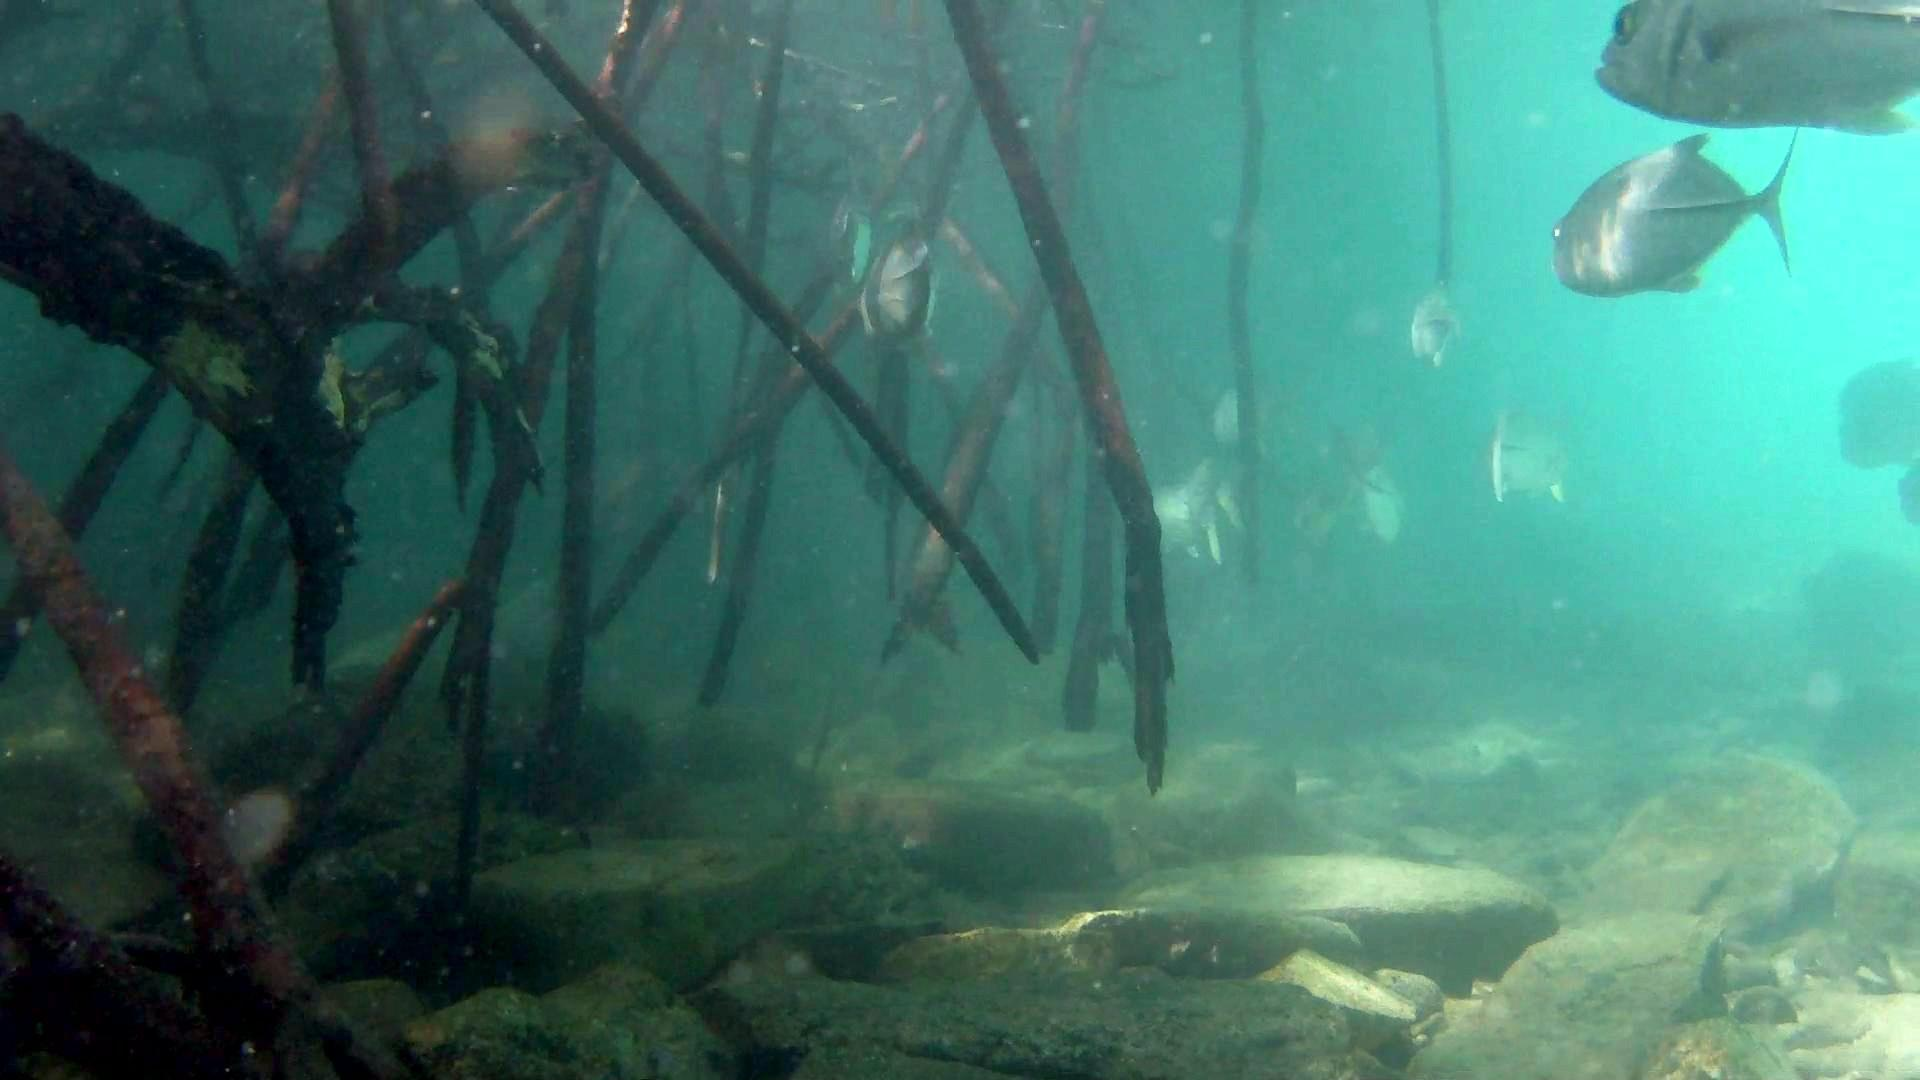caranx: (1543, 127, 1805, 310), (1585, 0, 1920, 140)
